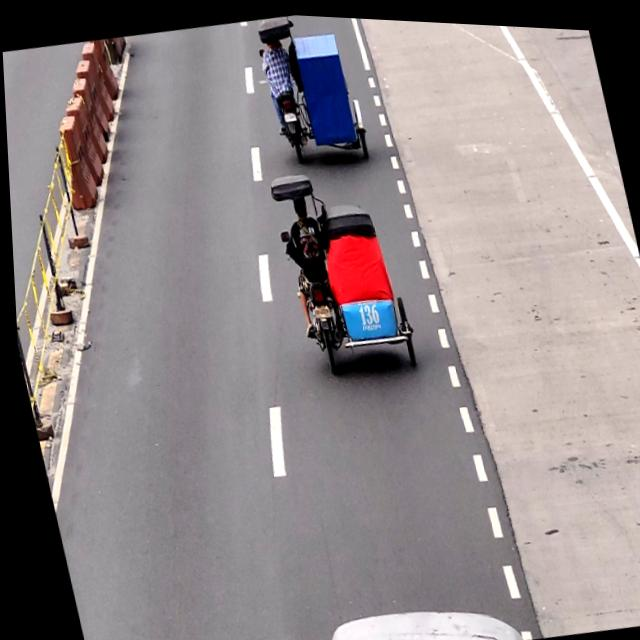License-Plate: (309, 300, 328, 318)
Tricycle: (260, 157, 417, 380), (256, 10, 370, 159)
